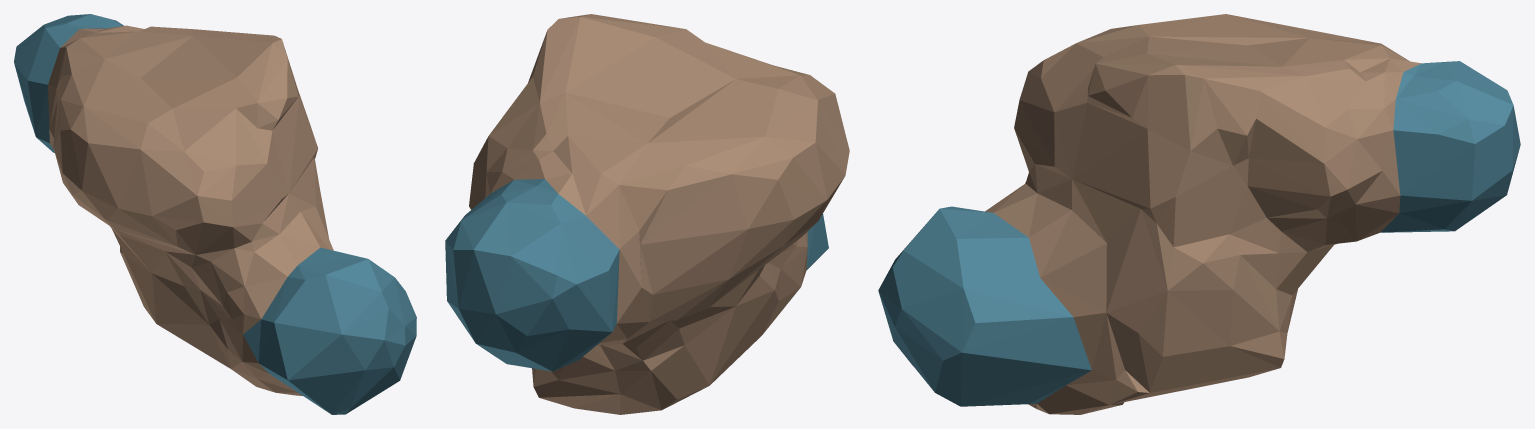
Rendered from SM_LP_Mineral_6.fbx.
3 views of the same model, side by side, from view 1: azimuth 30°, elevation 25°; view 2: azimuth 150°, elevation 25°; view 3: azimuth 270°, elevation 25° (orthographic). The views are drawn at different scales.
Parts seen in each view (by area): view 1: SM_LP_Mineral_6; view 2: SM_LP_Mineral_6; view 3: SM_LP_Mineral_6.
Boxes of the visible parts, bbox=[...] form: SM_LP_Mineral_6: bbox=[14, 14, 416, 414]; SM_LP_Mineral_6: bbox=[445, 14, 849, 414]; SM_LP_Mineral_6: bbox=[878, 14, 1520, 414].
Bounding box in the file's own units: 0.6915 × 0.8135 × 1.34.
